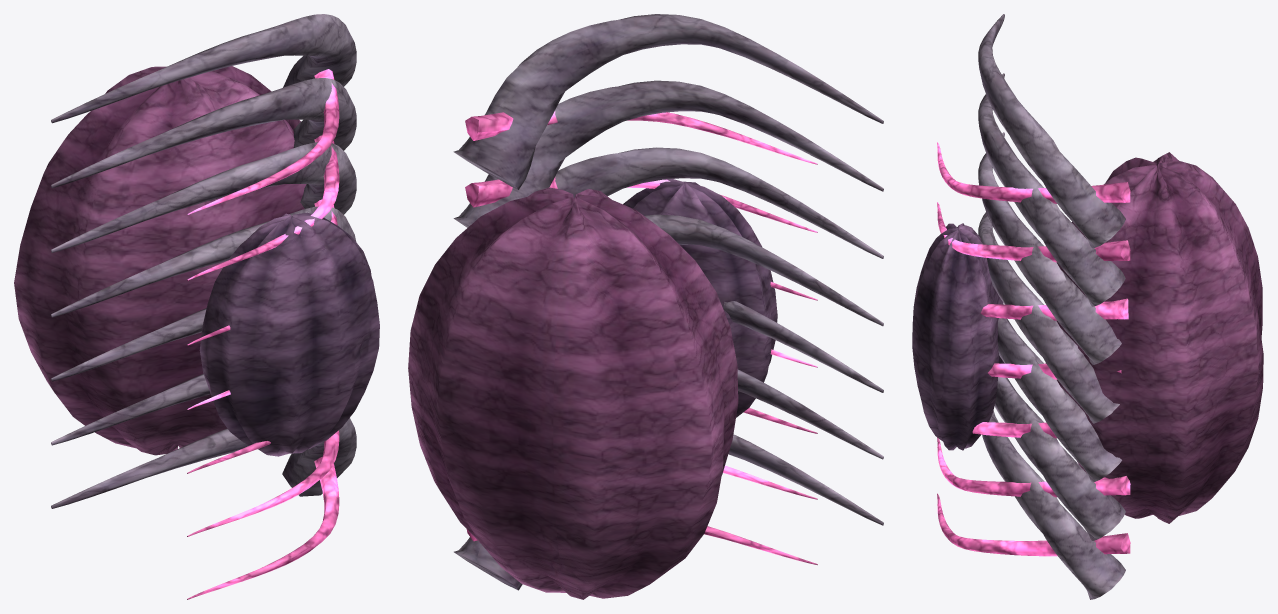
File: neural-crown.glb
The picture shows the model from 3 angles, left to right: view 1: azimuth 30°, elevation 25°; view 2: azimuth 150°, elevation 25°; view 3: azimuth 270°, elevation 25°; orthographic projection. The views are drawn at different scales.
Visible parts, largest first — view 1: neural-crown_membrane, neural-crown_rib, neural-crown_carapace, neural-crown_signal; view 2: neural-crown_membrane, neural-crown_rib, neural-crown_carapace, neural-crown_signal; view 3: neural-crown_membrane, neural-crown_rib, neural-crown_carapace, neural-crown_signal.
Boxes of the visible parts, bbox=[...] form: neural-crown_membrane: bbox=[14, 66, 306, 455]; neural-crown_rib: bbox=[51, 14, 356, 508]; neural-crown_carapace: bbox=[199, 212, 379, 456]; neural-crown_signal: bbox=[187, 69, 339, 599]; neural-crown_membrane: bbox=[408, 187, 738, 599]; neural-crown_rib: bbox=[453, 14, 883, 590]; neural-crown_carapace: bbox=[623, 179, 777, 417]; neural-crown_signal: bbox=[465, 111, 817, 564]; neural-crown_membrane: bbox=[1045, 152, 1263, 523]; neural-crown_rib: bbox=[978, 14, 1125, 599]; neural-crown_carapace: bbox=[912, 223, 1004, 450]; neural-crown_signal: bbox=[937, 142, 1130, 556].
Bounding box in the file's own units: 1.08 × 1.54 × 1.01.
Materials: 4 (4 with a texture image).
